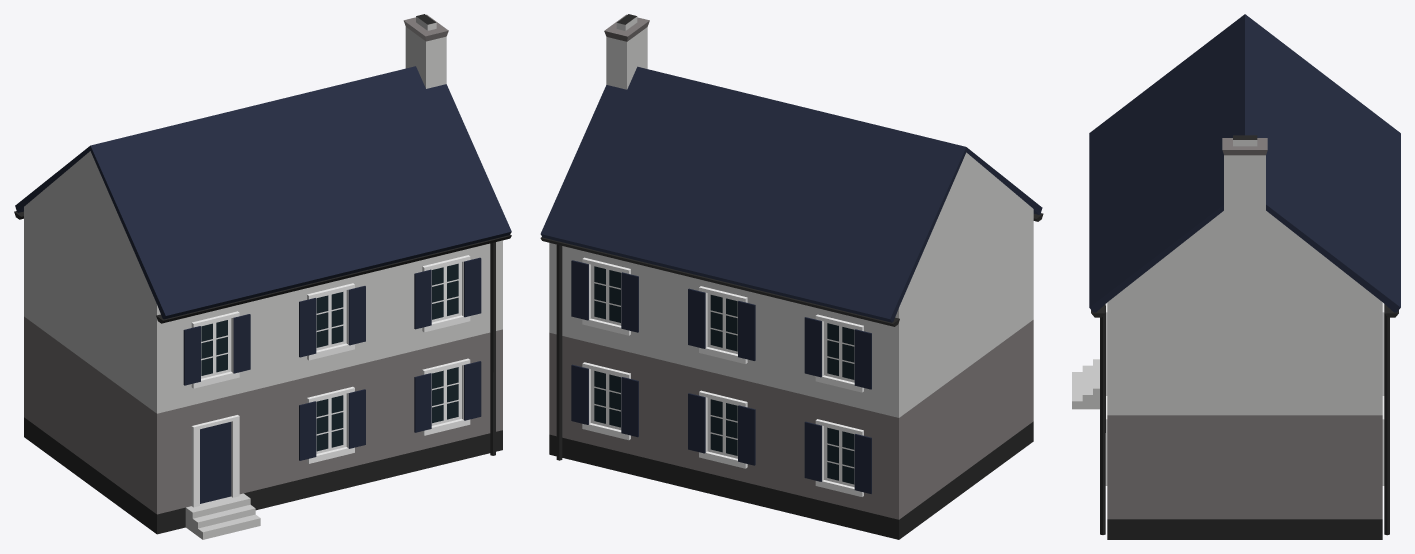
Rendered from building-house-big.glb.
3 views of the same model, side by side, from view 1: azimuth 30°, elevation 25°; view 2: azimuth 150°, elevation 25°; view 3: azimuth 270°, elevation 25° (orthographic). The views are drawn at different scales.
Visible parts, largest first — view 1: building-house-big; view 2: building-house-big; view 3: building-house-big.
Part boxes in pixels (x1,y1,x2,y2): building-house-big: (14,14,511,539); building-house-big: (540,14,1043,539); building-house-big: (1072,14,1400,539).
Size of the model in its own units: 9.54 by 10.04 by 7.53.
